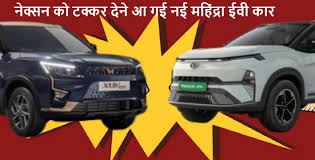XUV 400: (1, 18, 151, 138)
